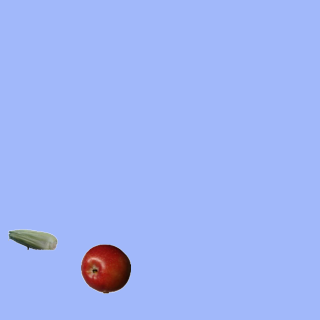Apple Braeburn: (80, 243, 130, 293)
Corn Husk: (7, 214, 57, 264)
